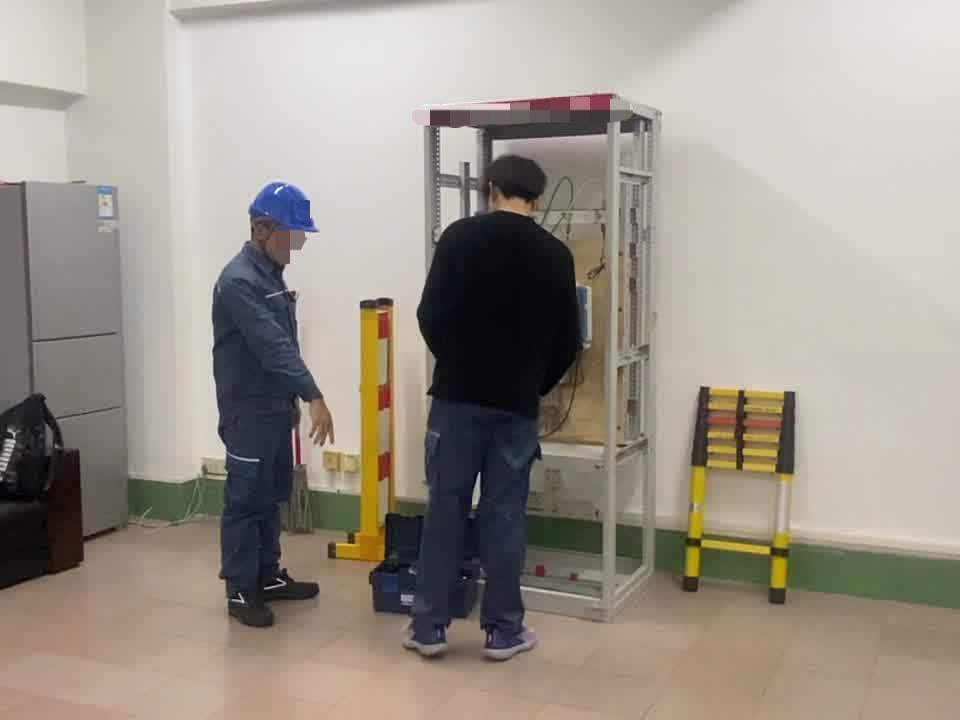halt: (248, 184, 320, 264)
inear: (252, 218, 282, 253)
unhalt: (483, 155, 550, 216)
